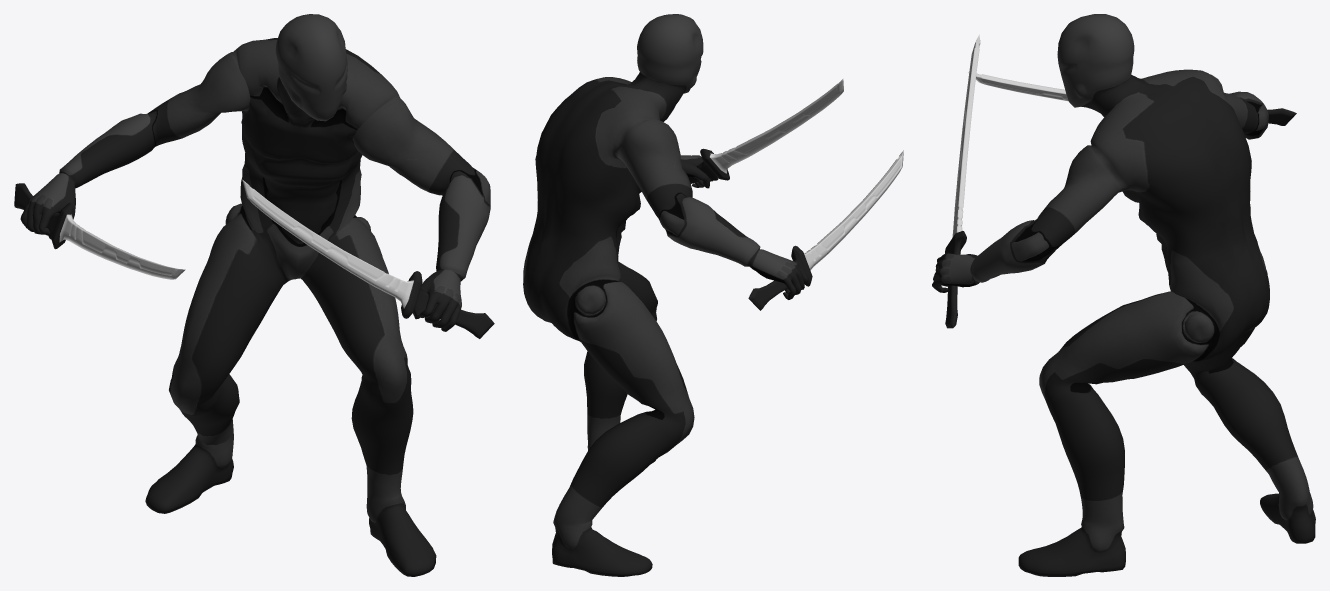
3 views of the same model, side by side, from view 1: azimuth 30°, elevation 25°; view 2: azimuth 150°, elevation 25°; view 3: azimuth 270°, elevation 25° (orthographic). The views are drawn at different scales.
Visible parts, largest first — view 1: Cyborg_Ninja_Killer, Sword_l, Sword_l001; view 2: Cyborg_Ninja_Killer, Sword_l001, Sword_l; view 3: Cyborg_Ninja_Killer, Sword_l, Sword_l001.
Part boxes in pixels (x1,y1,x2,y2): Cyborg_Ninja_Killer: (20,14,490,576); Sword_l: (242,179,494,338); Sword_l001: (14,183,185,279); Cyborg_Ninja_Killer: (523,14,808,576); Sword_l001: (748,150,903,310); Sword_l: (688,79,843,183); Cyborg_Ninja_Killer: (932,14,1315,576); Sword_l: (945,34,980,328); Sword_l001: (968,72,1296,125).
Size of the model in its own units: 106 by 153 by 103.
Materials: 2 (2 with a texture image).
